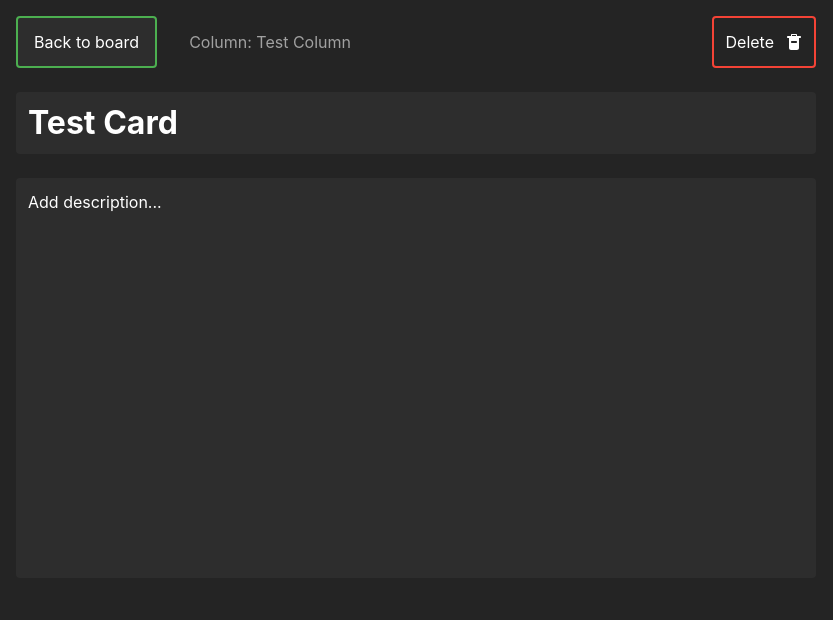
updates card description
Click the button with aria-label "edit card description" at coordinates (416, 378), box [16, 178, 816, 578]
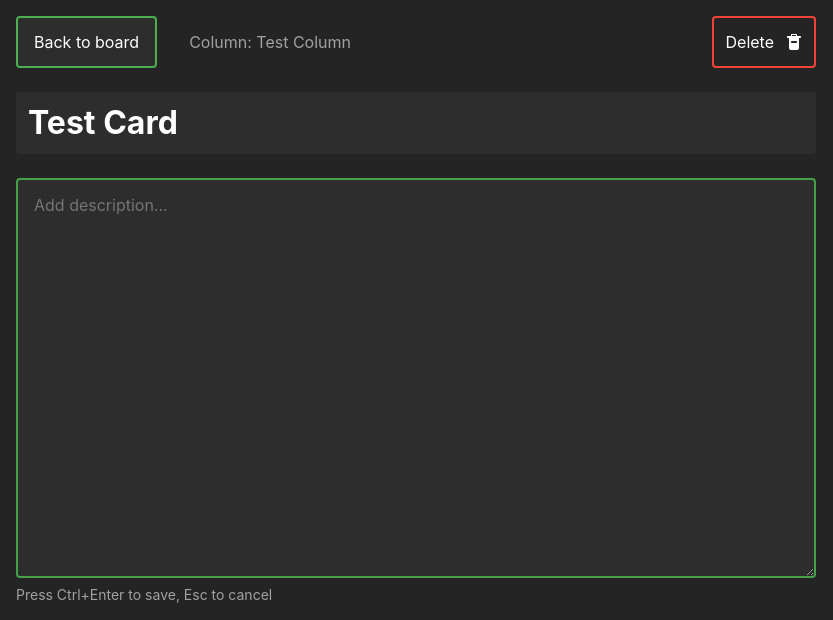
Type "New description" into the text box named "edit card description" at coordinates (416, 378), box [16, 178, 816, 578]
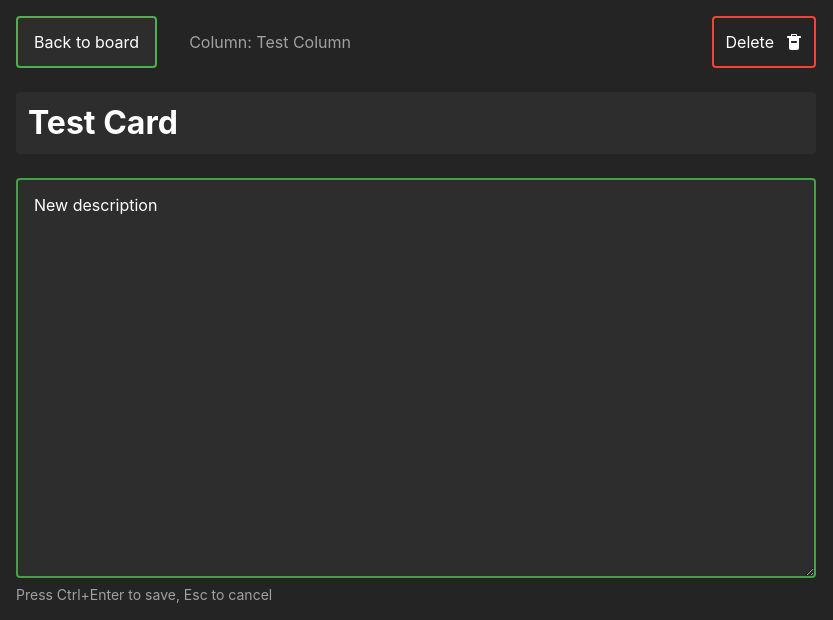
Type keys "{Control>}{Enter}{/Control}"
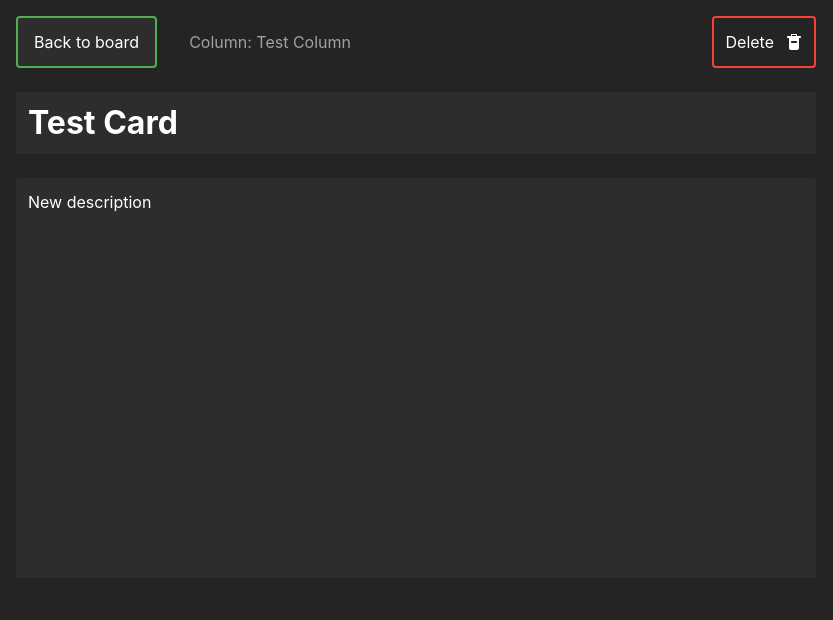
Check: the text "New description" is shown, box [28, 190, 151, 214]
